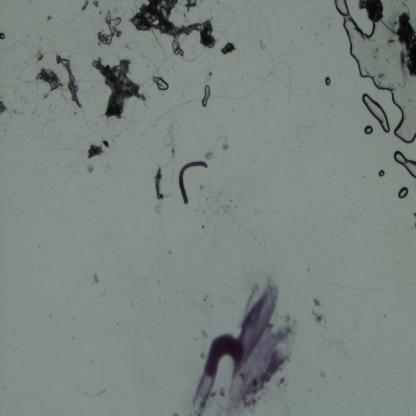Air bubble: (334, 0, 416, 144), (361, 92, 392, 133), (100, 10, 122, 45), (391, 149, 416, 178), (151, 75, 170, 93), (201, 85, 211, 106), (398, 186, 408, 200), (364, 124, 374, 136), (0, 30, 7, 42), (378, 168, 386, 178), (207, 70, 214, 79), (326, 76, 332, 86)
Background material: (128, 2, 218, 53), (92, 57, 146, 119), (56, 56, 84, 112), (396, 11, 416, 76), (357, 0, 386, 25), (34, 68, 63, 90), (152, 165, 164, 203), (85, 141, 104, 160), (80, 0, 100, 14), (220, 41, 238, 55), (219, 141, 230, 155), (36, 51, 46, 64), (206, 148, 215, 162), (101, 137, 111, 149), (0, 102, 8, 116), (94, 271, 99, 282)
Microfibre: (178, 161, 209, 205)
Pen: (188, 278, 290, 415), (312, 294, 325, 326)
